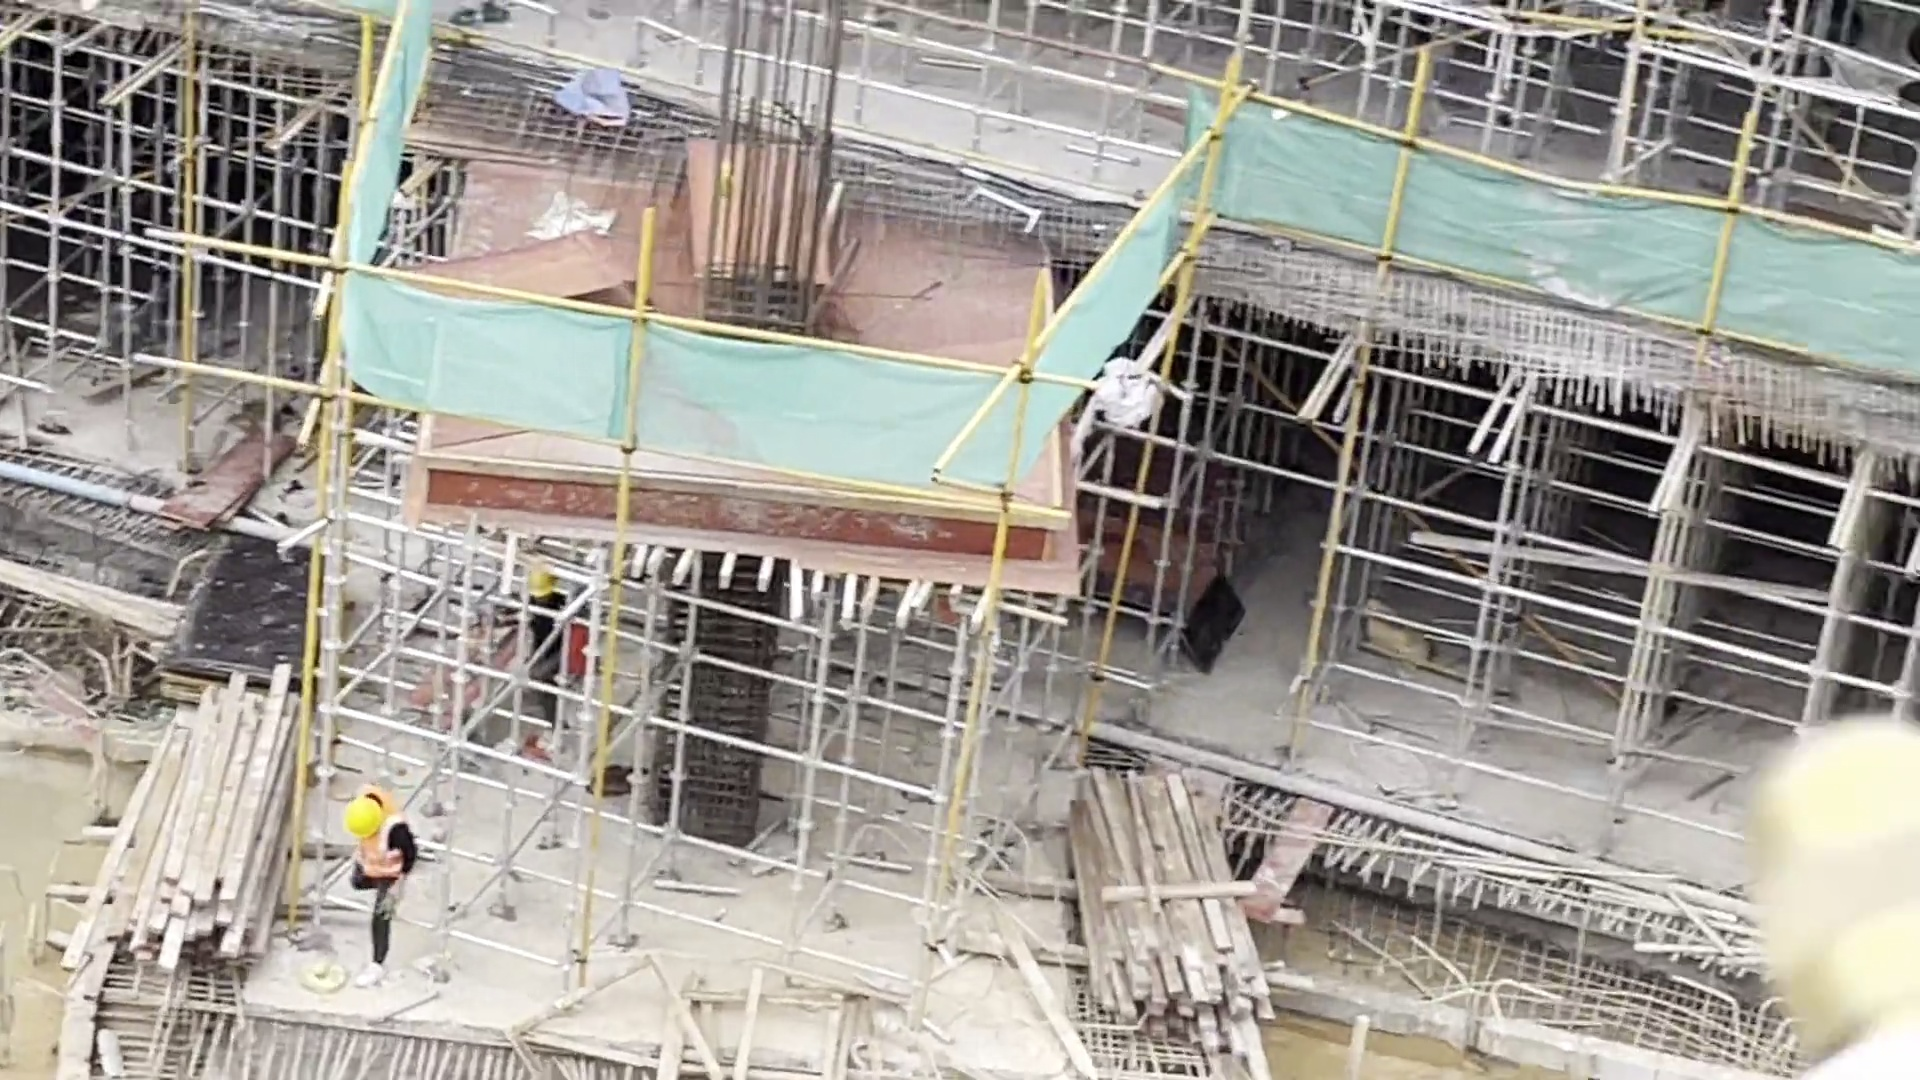board: (164, 526, 337, 706)
helmet: (341, 793, 382, 844)
person: (504, 565, 593, 766), (338, 779, 420, 994)
vest: (354, 802, 408, 881)
wood: (62, 659, 304, 983), (1071, 763, 1278, 1076)
